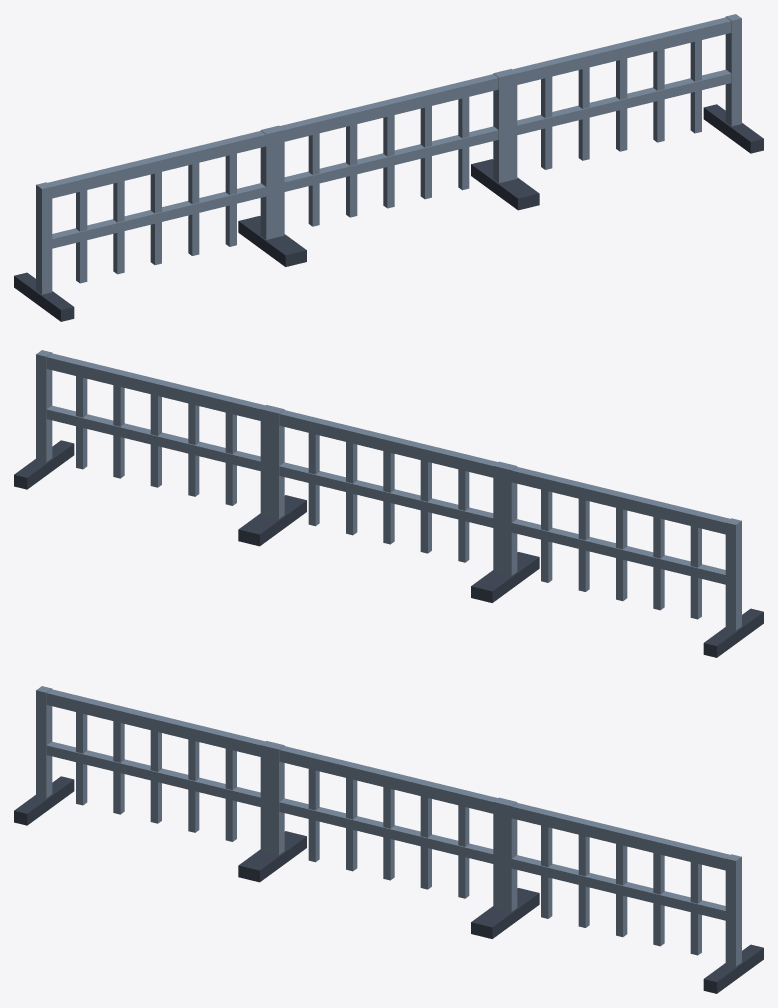
Rendered from cittaTransenne.glb.
3 views of the same model, one above another, from view 1: azimuth 30°, elevation 25°; view 2: azimuth 150°, elevation 25°; view 3: azimuth 330°, elevation 25° (orthographic).
Visible parts, largest first — view 1: cittaTransenne_steel, cittaTransenne_steelDark; view 2: cittaTransenne_steel, cittaTransenne_steelDark; view 3: cittaTransenne_steel, cittaTransenne_steelDark.
Part boxes in pixels (left/top/right/bottom): cittaTransenne_steel: left=36, top=14, right=741, bottom=294; cittaTransenne_steelDark: left=14, top=104, right=763, bottom=321; cittaTransenne_steel: left=36, top=350, right=741, bottom=630; cittaTransenne_steelDark: left=14, top=440, right=763, bottom=657; cittaTransenne_steel: left=36, top=686, right=741, bottom=966; cittaTransenne_steelDark: left=14, top=776, right=763, bottom=993.
Bounding box in the file's own units: 6.89 × 1.1 × 0.8.
